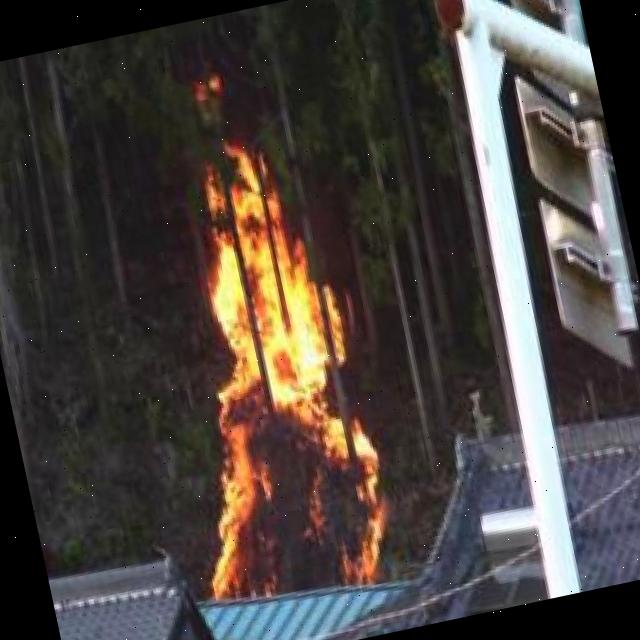fire: (120, 132, 408, 620)
